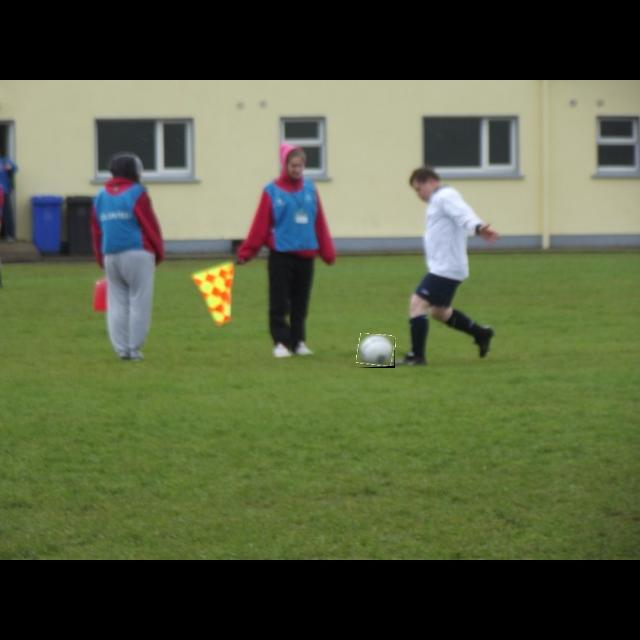Football: (357, 334, 395, 368)
